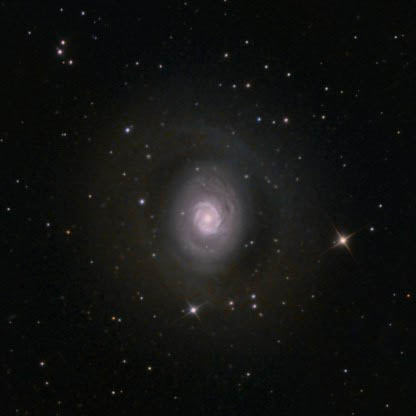Messier 94: (110, 114, 323, 339)
